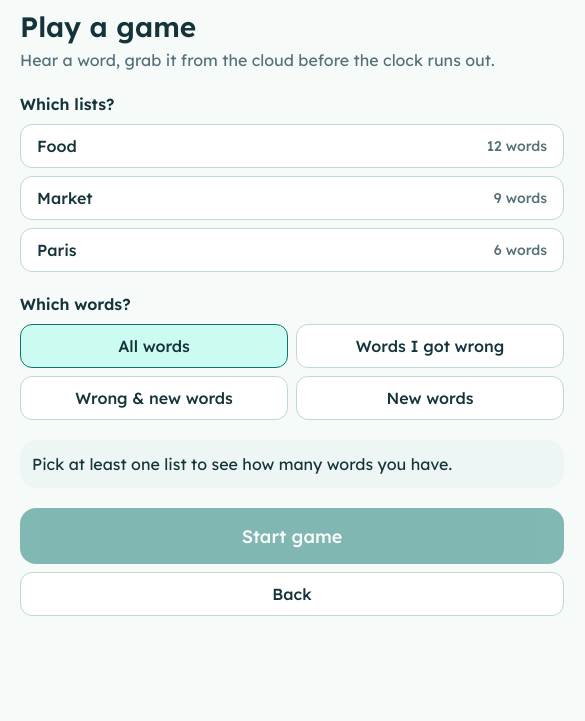
Scenario: picking lists › fixes the language pair on the first pick, and says why the others are out
The width and height of the screenshot is (585, 721).
What coordinates should you click on to do the following:
click the button "Food 12 words"
I would click on:
 (57, 146)
Its box is [20,124,564,168].
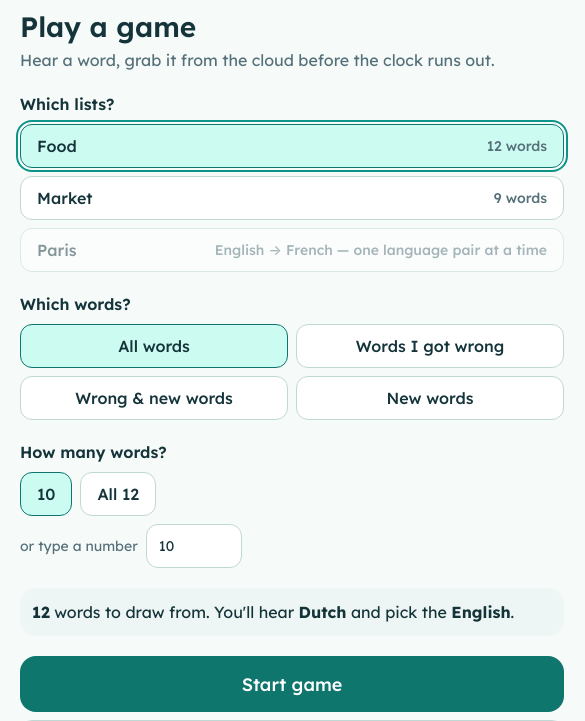
Check: the button "Market 9 words" is enabled, box [20,176,564,220]
Check: the button "Paris English → French — one language pair at a time" is disabled, box [20,228,564,272]
Check: the button "Paris English → French — one language pair at a time" is shown, box [20,228,564,272]
